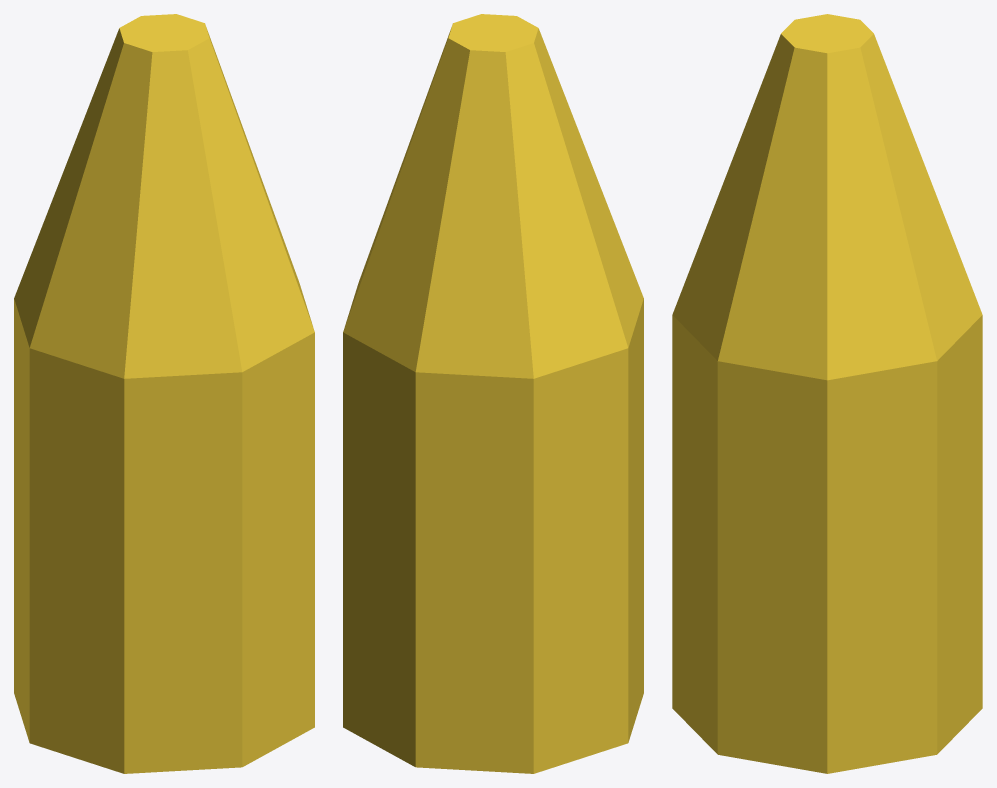
File: garage_oil_can.glb
3 renders of one model, left to right at view 1: azimuth 30°, elevation 25°; view 2: azimuth 150°, elevation 25°; view 3: azimuth 270°, elevation 25°, orthographic.
Parts seen in each view (by area): view 1: oil_can; view 2: oil_can; view 3: oil_can.
Part boxes in pixels (x1=…): oil_can: x1=14, y1=14, x2=314, y2=773; oil_can: x1=343, y1=14, x2=643, y2=773; oil_can: x1=672, y1=14, x2=982, y2=773.
Bounding box in the file's own units: 0.1 × 0.24 × 0.1.
